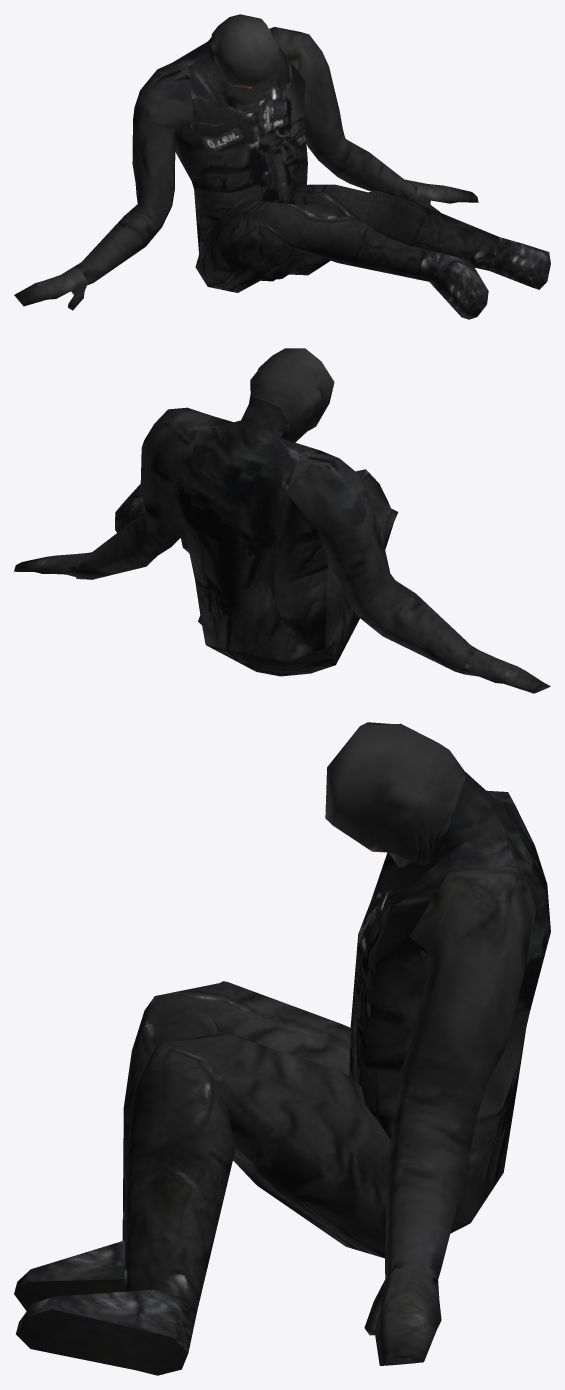
File: character_21_1.fbx
The picture shows the model from 3 angles, top to bottom: view 1: azimuth 30°, elevation 25°; view 2: azimuth 150°, elevation 25°; view 3: azimuth 270°, elevation 25°; orthographic projection. The views are drawn at different scales.
Visible parts, largest first — view 1: Character_21_Police; view 2: Character_21_Police; view 3: Character_21_Police.
Part boxes in pixels (x1,y1,x2,y2): Character_21_Police: (14, 14, 550, 319); Character_21_Police: (14, 348, 550, 693); Character_21_Police: (14, 722, 550, 1375).
Bounding box in the file's own units: 354 × 202 × 199.
